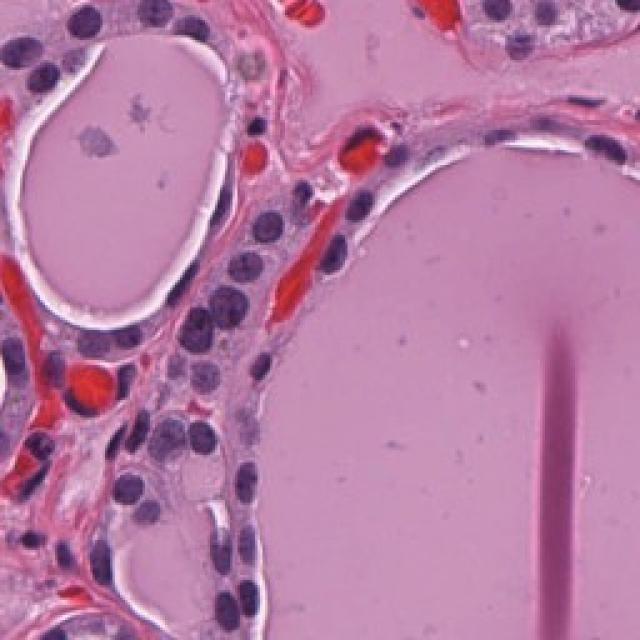normal: (88, 458, 151, 539), (296, 216, 360, 292), (173, 393, 231, 470), (66, 301, 126, 369), (239, 193, 295, 257), (115, 0, 187, 48), (193, 284, 253, 341), (226, 523, 279, 585), (234, 334, 291, 390), (219, 447, 272, 505), (226, 577, 279, 635), (20, 47, 60, 119), (221, 243, 272, 295), (145, 414, 187, 474)
